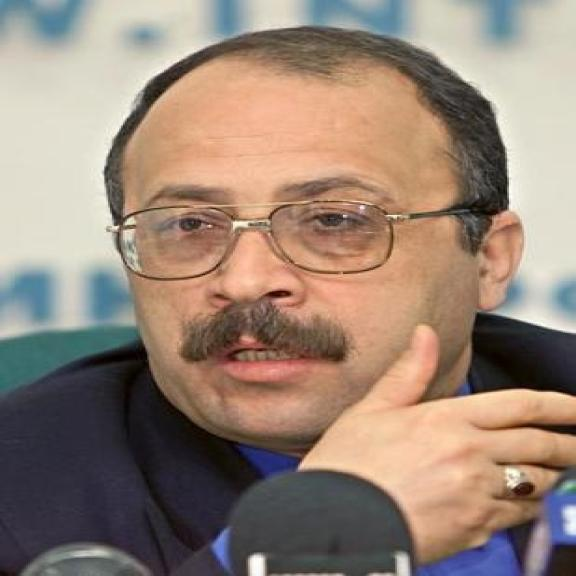face: (125, 106, 533, 445)
